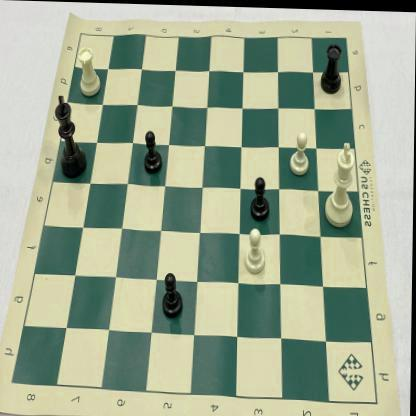black-king: (51, 91, 92, 186)
black-pawn: (159, 264, 190, 325), (140, 124, 169, 178), (247, 170, 276, 220)
black-rook: (317, 36, 348, 99)
white-king: (320, 134, 362, 231)
white-pawn: (240, 224, 270, 278), (286, 127, 314, 180)
white-rook: (75, 42, 105, 104)
